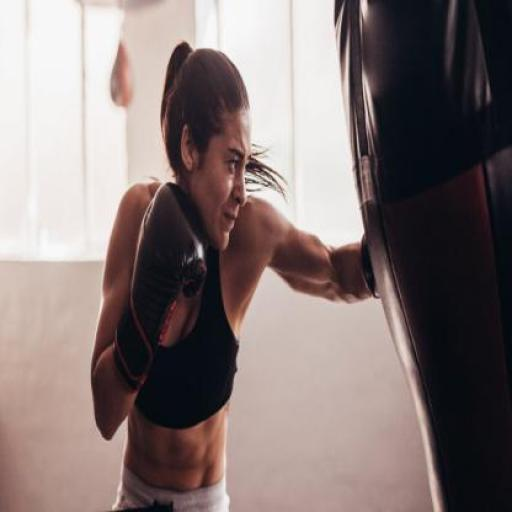Fighting: (86, 41, 411, 512)
